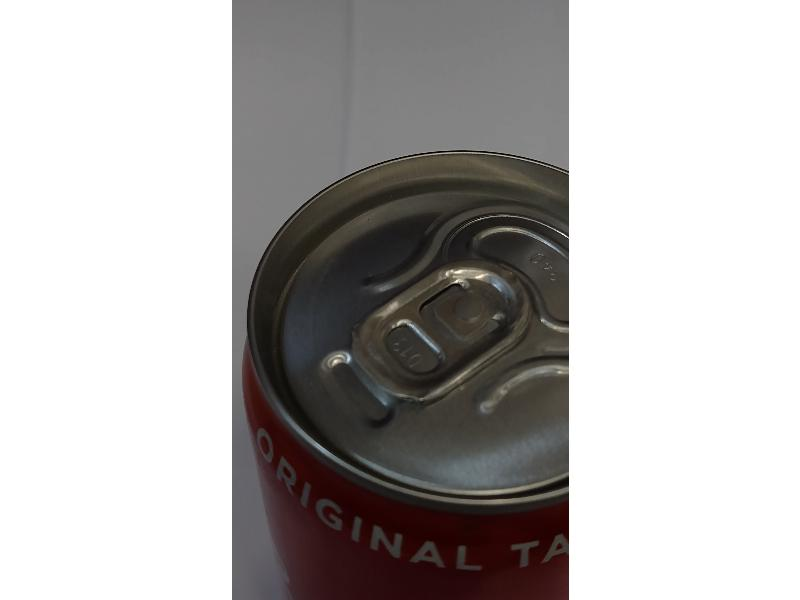can: (241, 143, 567, 594)
